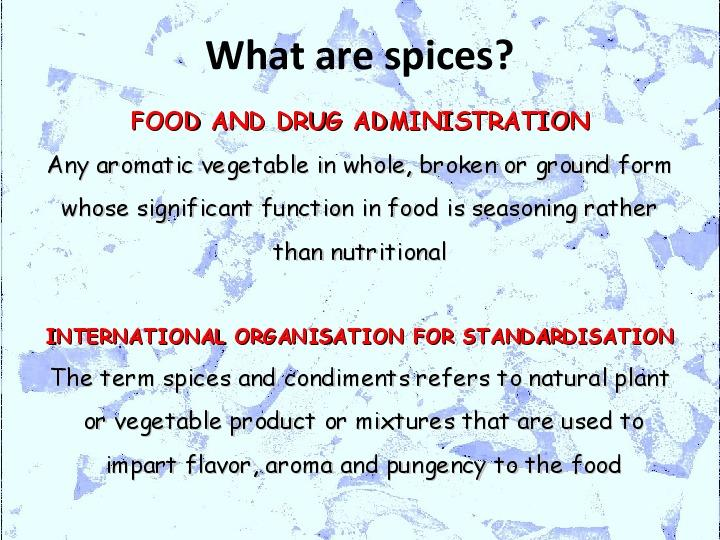paragraph: (18, 94, 706, 516)
subtitle: (40, 316, 687, 363), (127, 101, 605, 145)
title: (195, 15, 520, 91)
